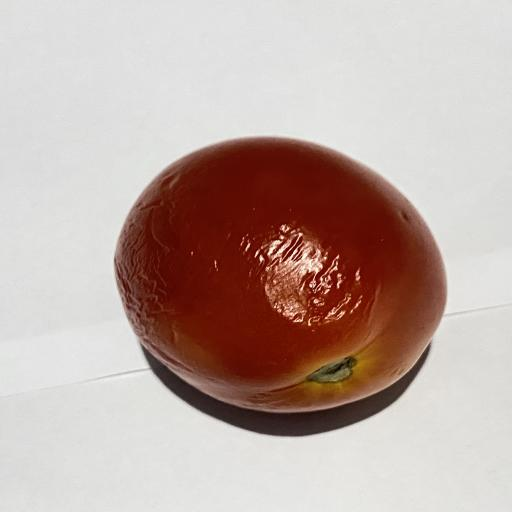spoiled: (115, 137, 446, 412)
